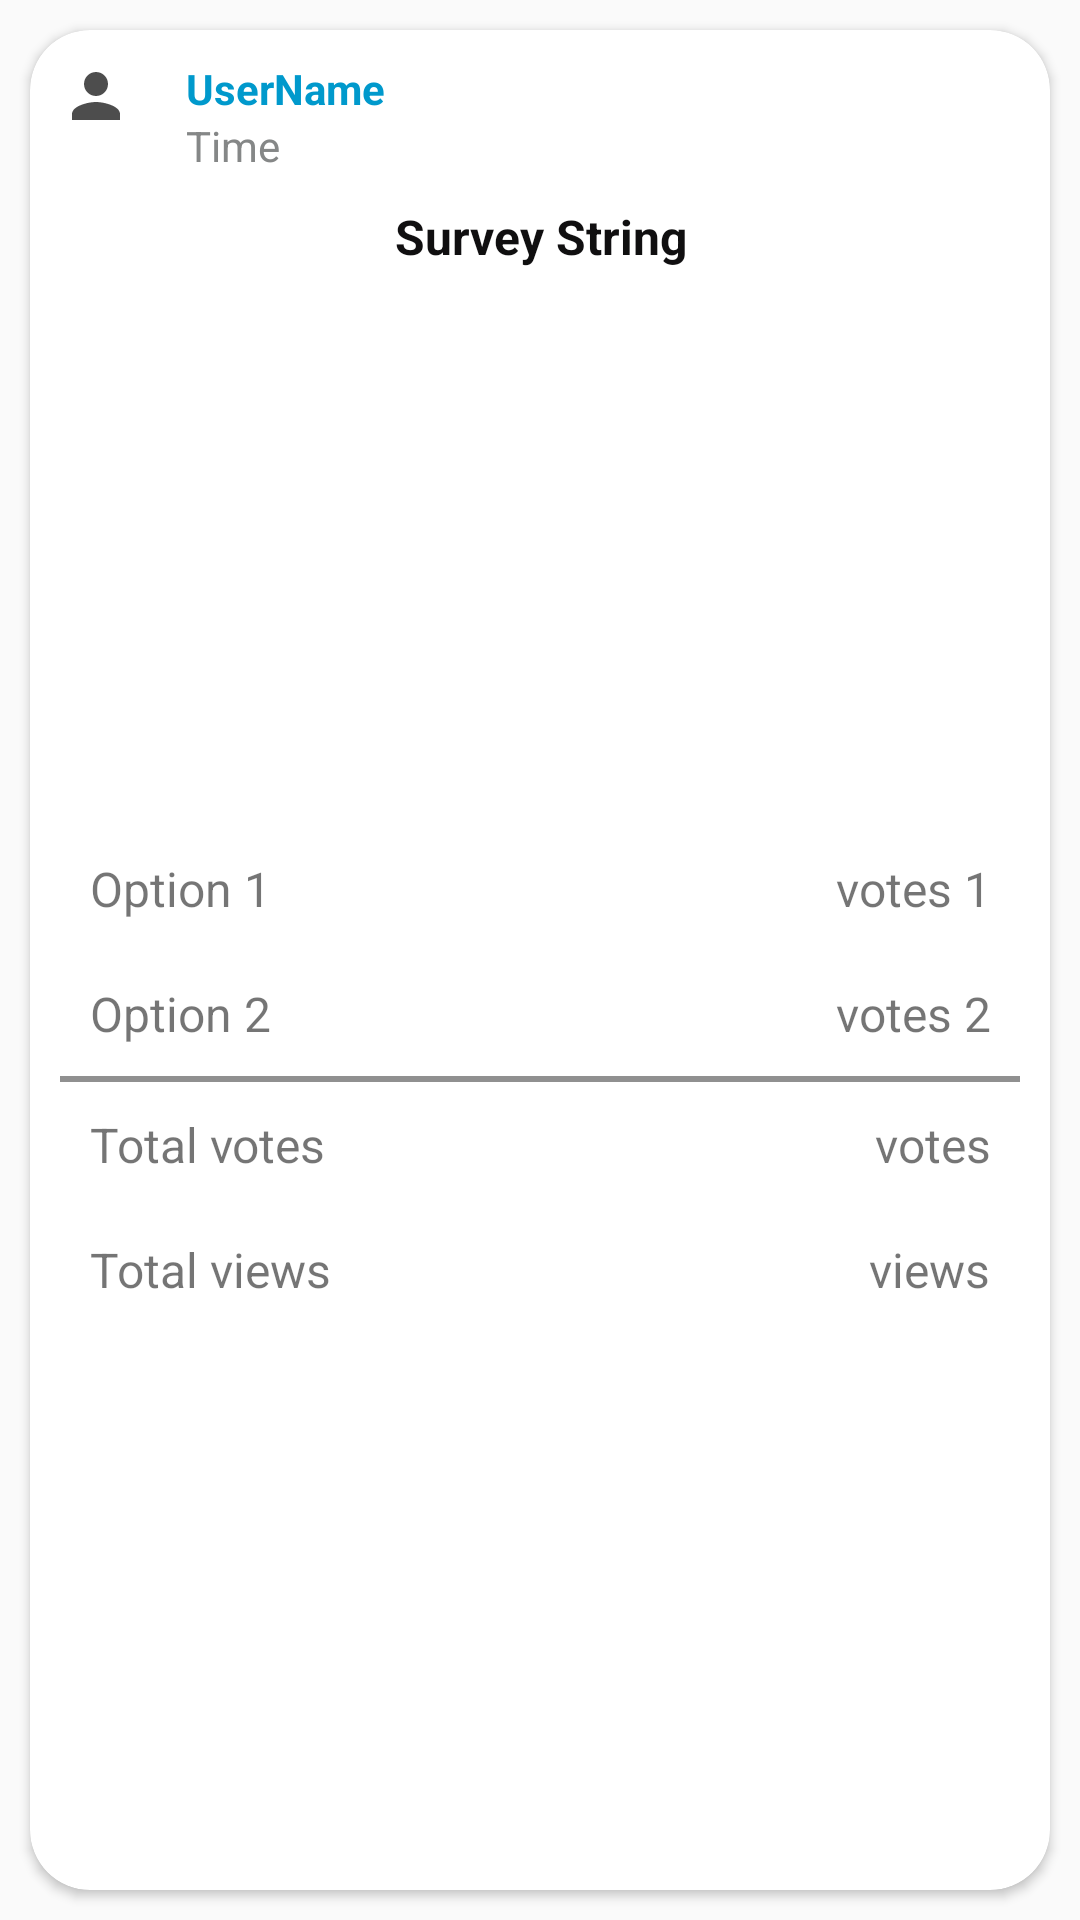

Point at icon controls on the screen. Image size 1080 × 1920, points as (x=x, y=y).
person: (x=96, y=96)
